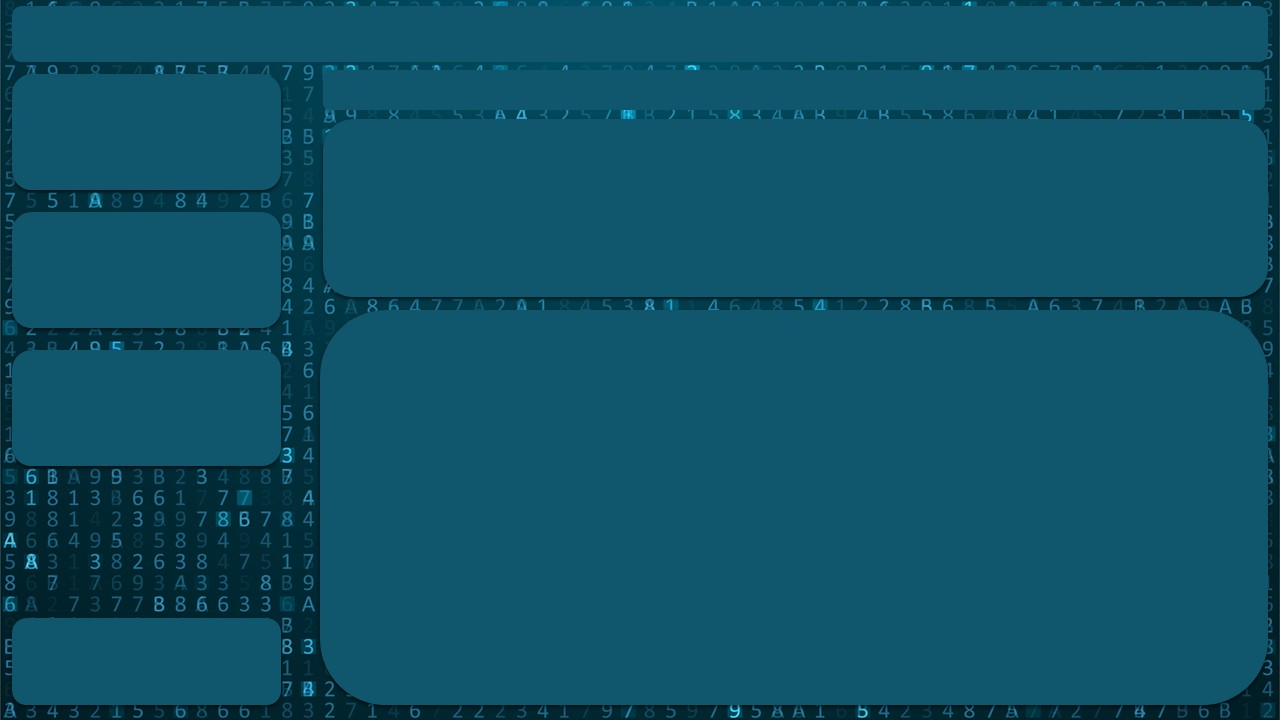

The page's visual inventory and layout, read from the dashboard file:
{"tool":"powerbi","page":{"name":"Page 1","canvas":[1280,720],"ordinal":0},"visuals":[{"type":"tableEx","fields":{"Values":["Groups.Group Name","Sum(Group Fact.Total)"]},"box":[10.1,0,1269.5,708],"z":0}]}

Visuals, with their boxes in screenshot pixels (x1, y1, x2, y2), scaled from the page's 1280x720 canvas onto the 1280x720 screenshot:
tableEx - Groups.Group Name x Sum(Group Fact.Total): box=[10, 0, 1279, 708]
